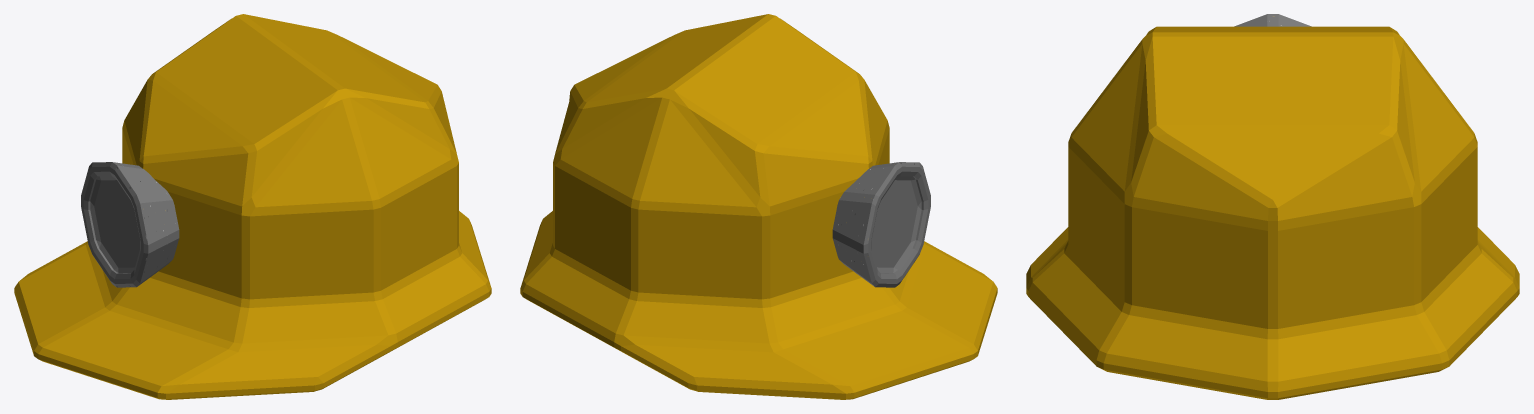
Rendered from hardHat.fbx.
The picture shows the model from 3 angles, left to right: view 1: azimuth 30°, elevation 25°; view 2: azimuth 150°, elevation 25°; view 3: azimuth 270°, elevation 25°; orthographic projection. The views are drawn at different scales.
Parts seen in each view (by area): view 1: Cylinder, Cylinder.001; view 2: Cylinder, Cylinder.001; view 3: Cylinder, Cylinder.001.
Boxes of the visible parts, <box> form: Cylinder: <box>14,14,491,399</box>; Cylinder.001: <box>81,162,179,287</box>; Cylinder: <box>520,14,997,399</box>; Cylinder.001: <box>832,162,930,287</box>; Cylinder: <box>1026,26,1519,399</box>; Cylinder.001: <box>1234,14,1311,26</box>.
Size of the model in its own units: 286 by 156 by 238.
